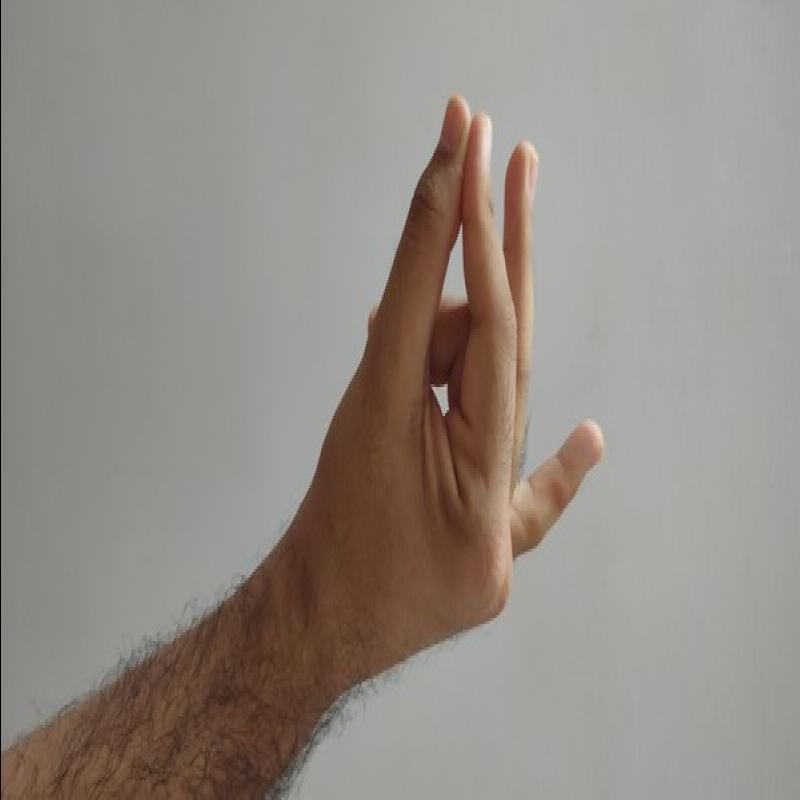Katakam: (290, 83, 628, 688)
